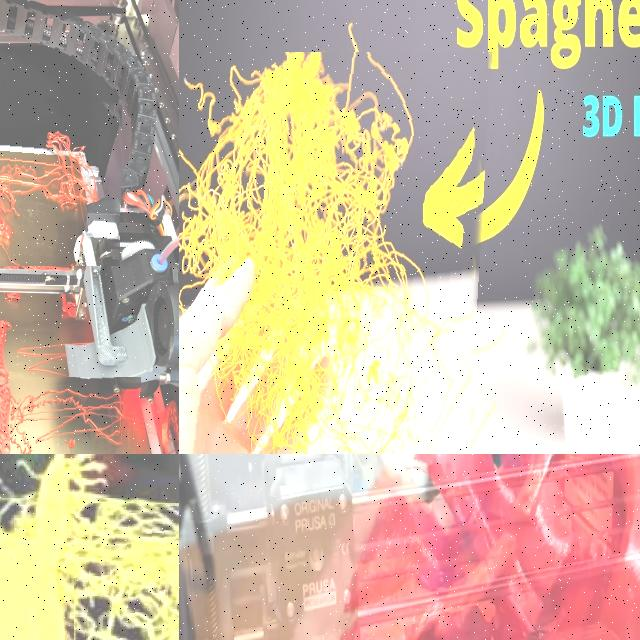spaghetti: (179, 52, 478, 454), (0, 76, 122, 266), (74, 503, 179, 640), (10, 377, 142, 454)
